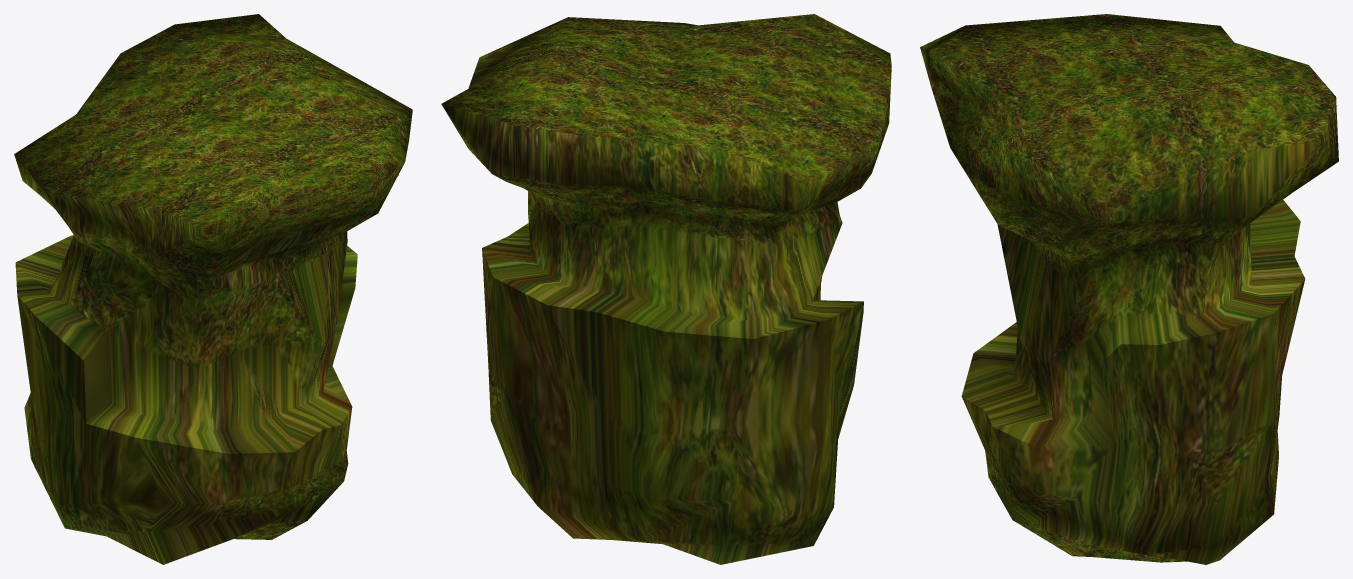
Rendered from LVL_ROAST_MUTTON_ROCK_LEDGE01.fbx.
The picture shows the model from 3 angles, left to right: view 1: azimuth 30°, elevation 25°; view 2: azimuth 150°, elevation 25°; view 3: azimuth 270°, elevation 25°; orthographic projection. The views are drawn at different scales.
Parts seen in each view (by area): view 1: LVL_ROAST_MUTTON_ROCK_LEDGE01; view 2: LVL_ROAST_MUTTON_ROCK_LEDGE01; view 3: LVL_ROAST_MUTTON_ROCK_LEDGE01.
Boxes of the visible parts, bbox=[...] form: LVL_ROAST_MUTTON_ROCK_LEDGE01: bbox=[14, 14, 412, 564]; LVL_ROAST_MUTTON_ROCK_LEDGE01: bbox=[441, 14, 891, 564]; LVL_ROAST_MUTTON_ROCK_LEDGE01: bbox=[920, 14, 1338, 564].
Bounding box in the file's own units: 101099 × 115347 × 90275.
1 material, 1 textured.
